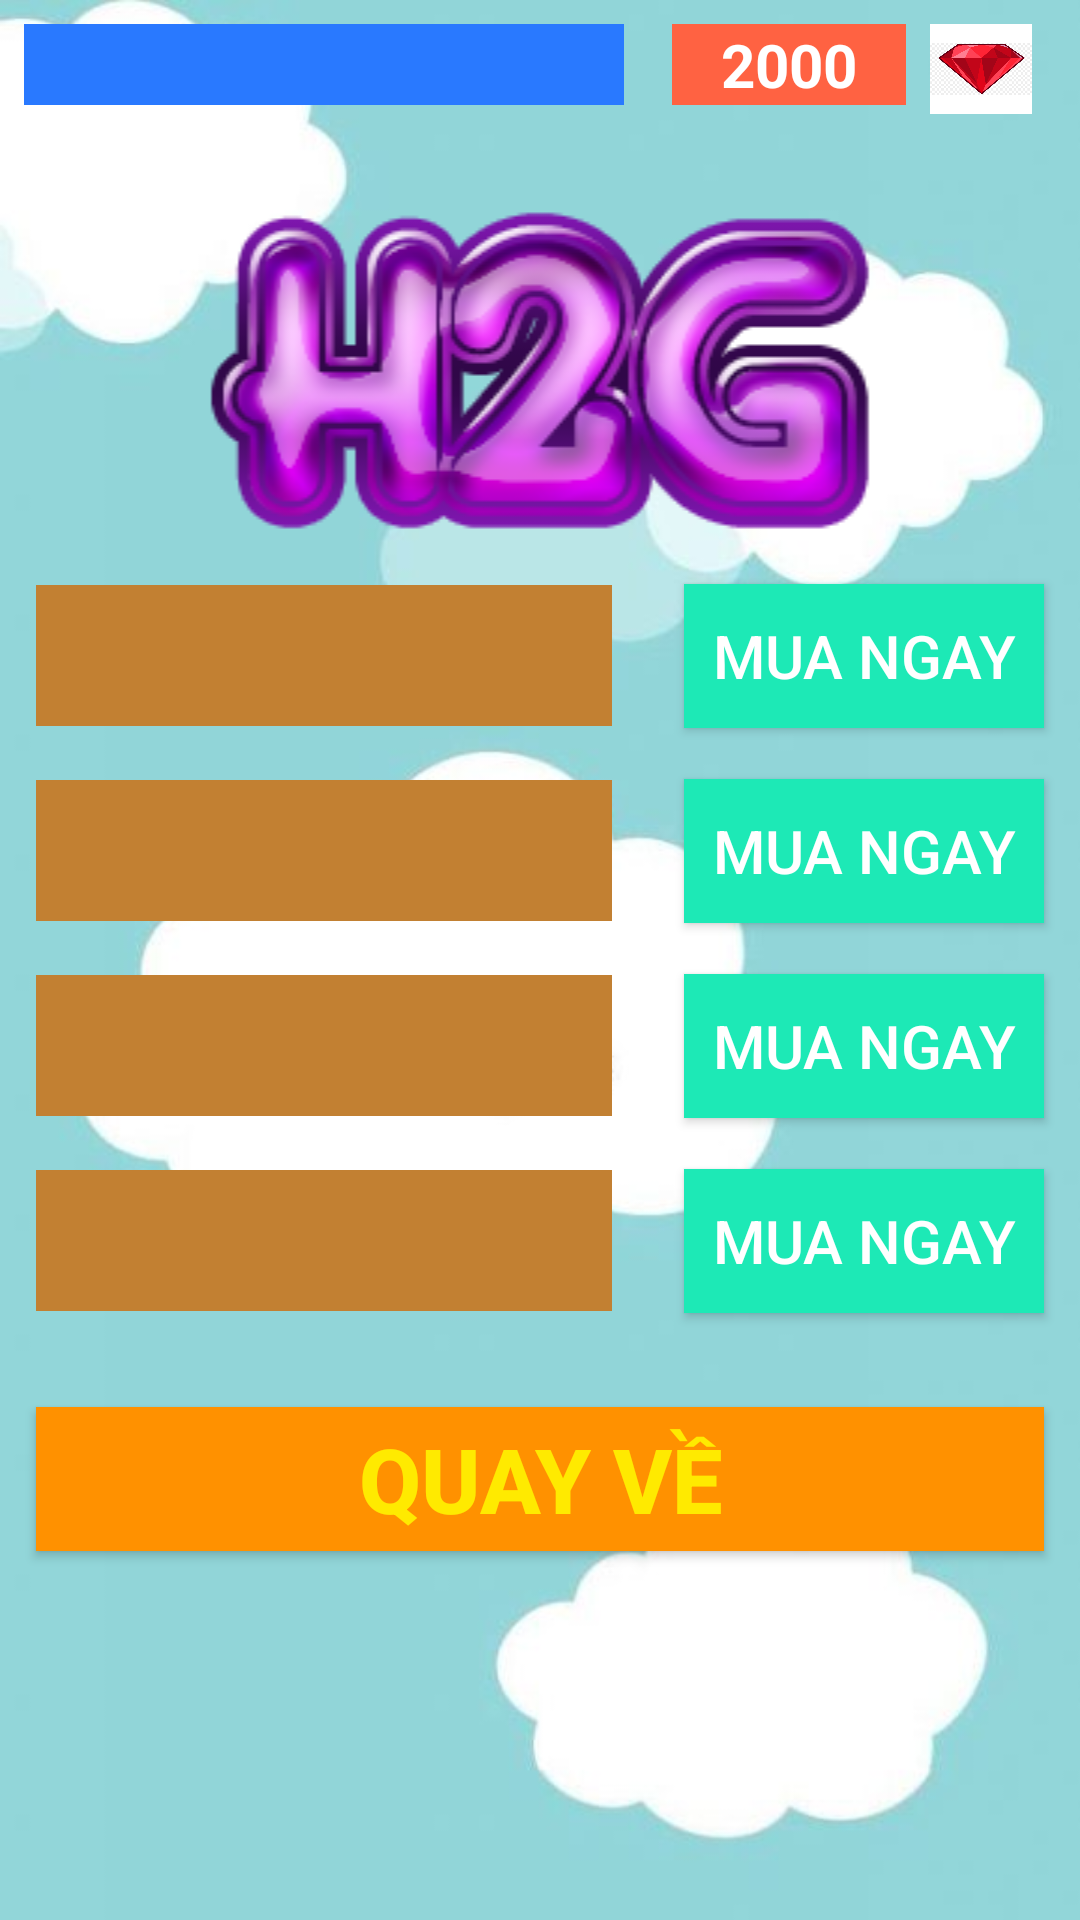

Icon click points for this 1080px x 1920px phone screenshot, format [x,y]:
ruby: [981,69]
